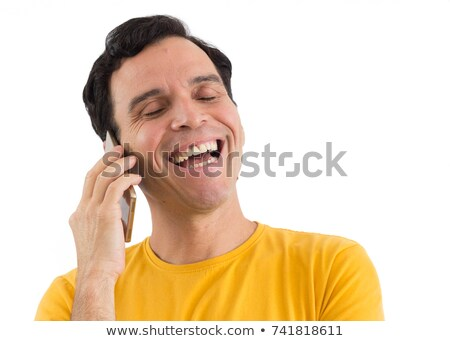phone: (94, 130, 145, 234)
talk: (70, 68, 245, 271)
